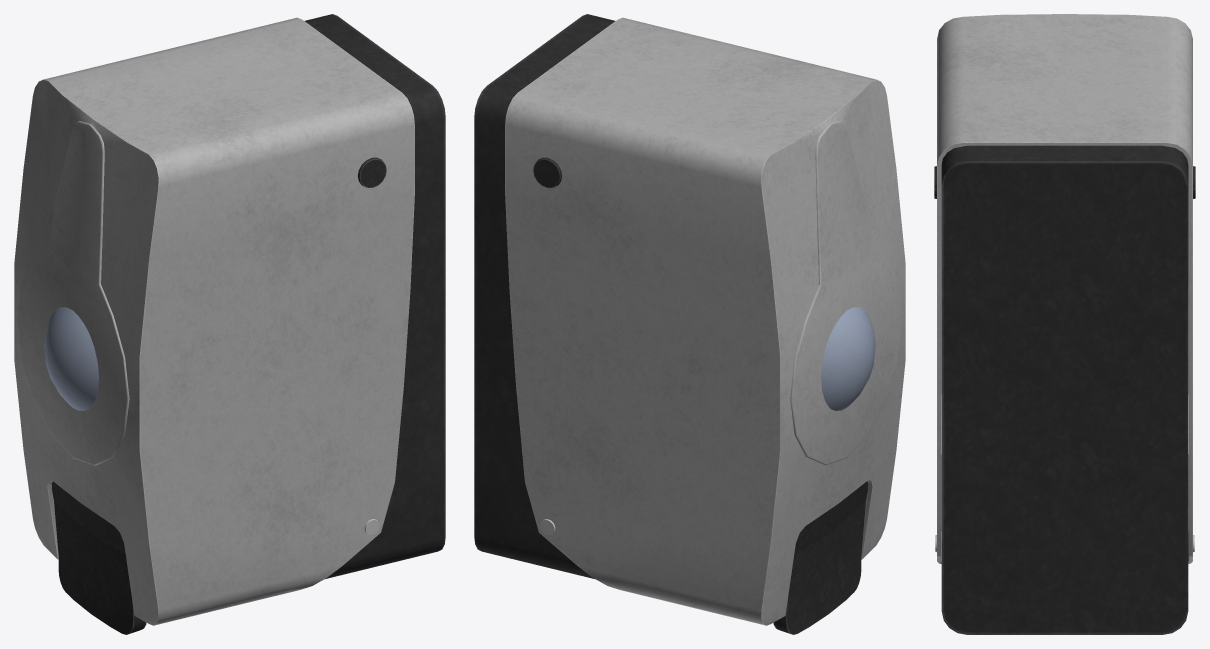
File: SM_Schoolhallway_04.fbx
3 views of the same model, side by side, from view 1: azimuth 30°, elevation 25°; view 2: azimuth 150°, elevation 25°; view 3: azimuth 270°, elevation 25° (orthographic).
Visible parts, largest first — view 1: SM_Schoolhallway_04; view 2: SM_Schoolhallway_04; view 3: SM_Schoolhallway_04.
Part boxes in pixels (x1,y1,x2,y2): SM_Schoolhallway_04: [14, 14, 445, 634]; SM_Schoolhallway_04: [474, 14, 905, 634]; SM_Schoolhallway_04: [934, 14, 1195, 634].
Size of the model in its own units: 17.54 by 11.78 by 25.03.
